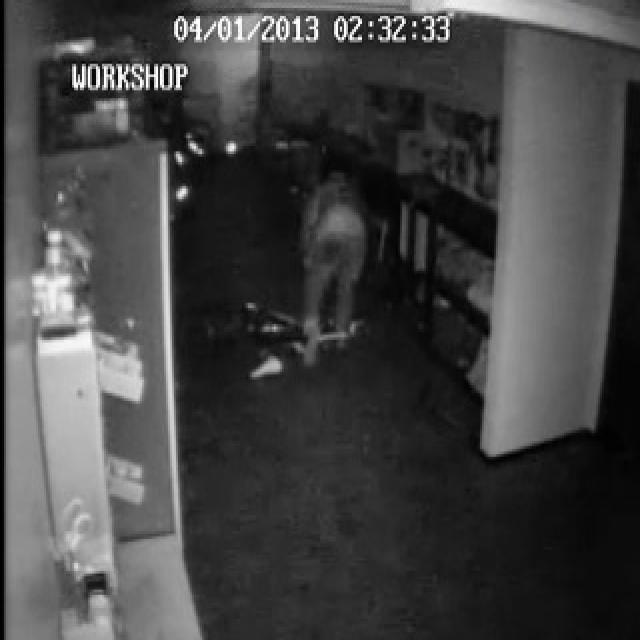thief: (302, 167, 364, 346)
